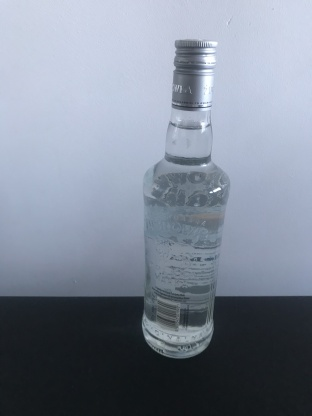nakretka: (169, 36, 219, 114)
